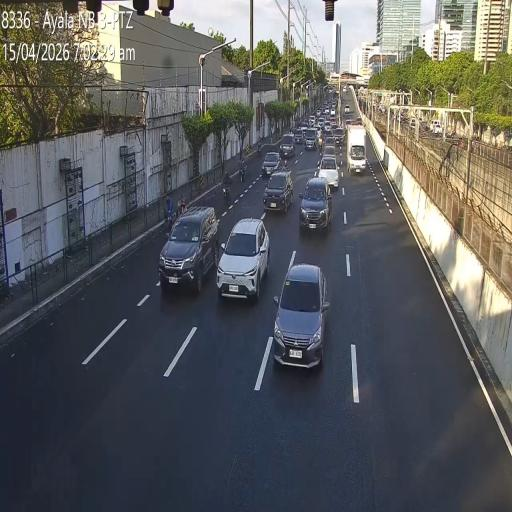Car: (272, 262, 328, 368), (158, 205, 219, 293), (217, 216, 270, 300), (298, 176, 334, 232), (262, 170, 294, 214), (318, 154, 339, 191), (260, 153, 280, 178), (279, 134, 295, 157), (304, 127, 318, 150), (322, 140, 336, 159), (332, 127, 346, 145), (292, 126, 304, 144), (344, 104, 350, 113)
Motor: (164, 198, 176, 233), (220, 167, 230, 205), (238, 154, 246, 184)
Not Accident: (155, 198, 219, 294), (262, 152, 292, 214), (316, 140, 338, 186)
